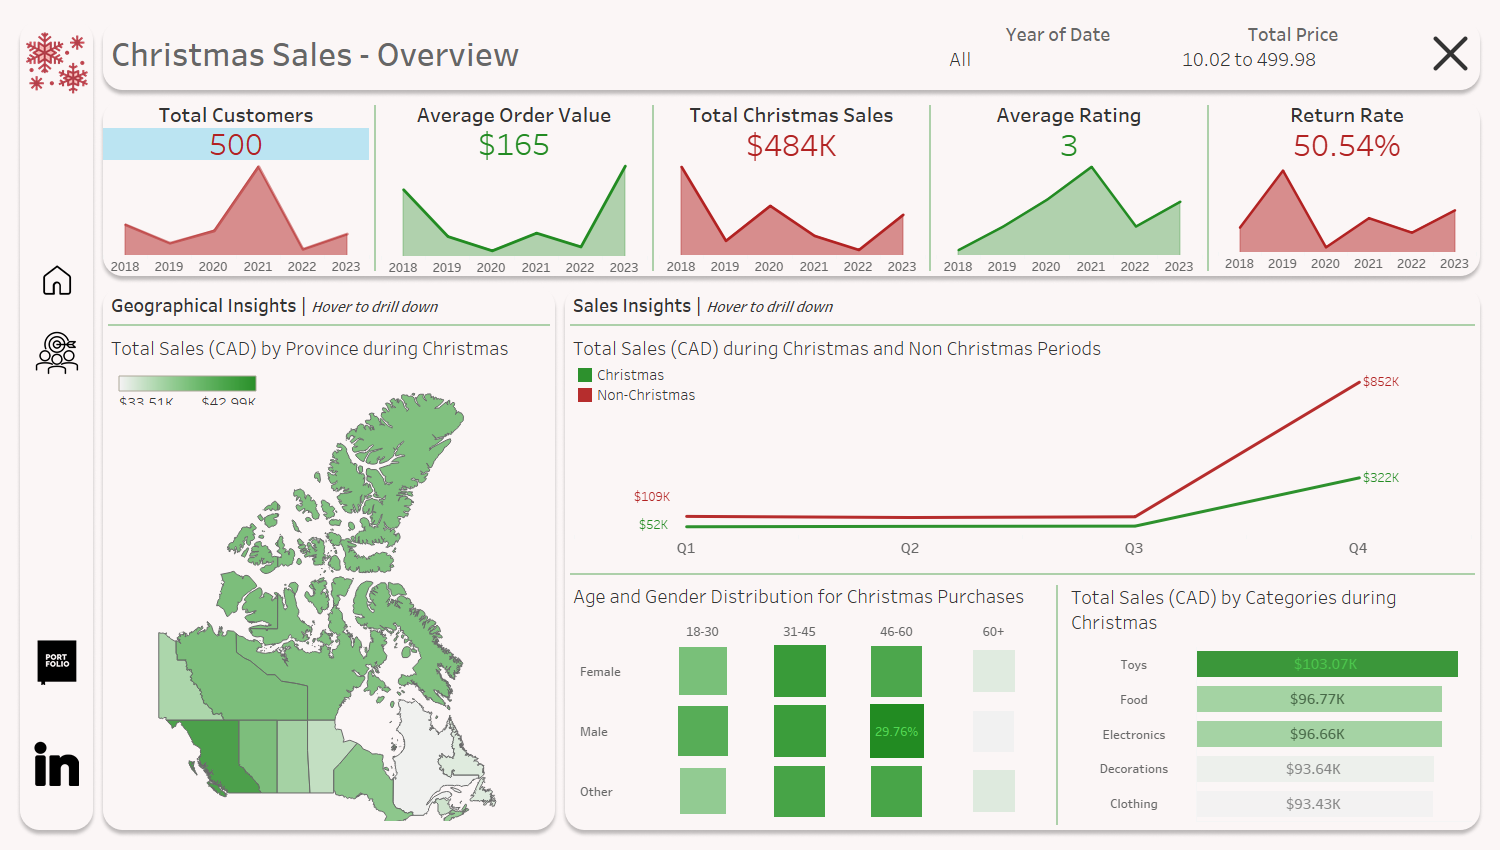

The page's visual inventory and layout, read from the dashboard file:
{"tool":"tableau","page":{"name":"Christmas Sales Overview","canvas":[1500,850],"ordinal":1},"visuals":[{"type":"image","param":"Image/Figma Layout.png","box":[0,0,1500,850]},{"type":"image","param":"Image/snowflake.png","box":[20,20,73,85]},{"type":"text","box":[103,20,839,70]},{"type":"filter","title":"Provinces with Highest Sales Volume during Christmas","param":"[federated.1prkwfw1cqiixn18lu98s0jrutzh].[yr:Date:ok]","box":[942,20,232,70]},{"type":"filter","title":"Provinces with Highest Sales Volume during Christmas","param":"[federated.1prkwfw1cqiixn18lu98s0jrutzh].[none:Total Price:qk]","box":[1174,20,238,70]},{"type":"blank","box":[1412,20,68,70]},{"type":"dashboard-object","box":[1425,22,51,64]},{"type":"text","box":[103,100,265.8,28]},{"type":"blank","box":[368.8,100,12,176]},{"type":"text","box":[380.8,100,265.8,28]},{"type":"blank","box":[646.6,100,12,176]},{"type":"text","box":[658.6,100,265.8,28]},{"type":"blank","box":[924.4,100,12,176]},{"type":"text","box":[936.4,100,265.8,28]},{"type":"blank","box":[1202.2,100,12,176]},{"type":"text","box":[1214.2,100,265.8,28]},{"type":"blank","box":[20,105,73,138]},{"type":"worksheet","title":"BAN Total Number of Customers","mark":"Text","box":[103,128,265.8,32]},{"type":"worksheet","title":"BAN Average Order Value (AOV) (2)","mark":"Text","box":[380.8,128,265.8,32]},{"type":"worksheet","title":"BAN Total Christmas Sales ","mark":"Text","box":[658.6,128,265.8,33]},{"type":"worksheet","title":"BAN Average Rating","mark":"Text","box":[936.4,128,265.8,33]},{"type":"worksheet","title":"BAN Return Rate","mark":"Text","box":[1214.2,128,265.8,33]},{"type":"worksheet","title":"Total Number of Customers","mark":"Area","rows":["Customer ID","Customer ID"],"cols":["Date"],"box":[103,160,265.8,116]},{"type":"worksheet","title":"Average Order Value (AOV)","mark":"Line","rows":["Calculation_2241948214590119941","Calculation_2241948214590119941"],"cols":["Date"],"box":[380.8,160,265.8,116]},{"type":"worksheet","title":"Total Christmas Sales ","mark":"Line","rows":["Total Price","Total Price"],"cols":["Date"],"box":[658.6,161,265.8,115]},{"type":"worksheet","title":"Average Rating","mark":"Area","rows":["Customer Satisfaction","Customer Satisfaction"],"cols":["Date"],"box":[936.4,161,265.8,115]},{"type":"worksheet","title":"Return Rate","mark":"Area","rows":["Calculation_1046523991688486935","Calculation_1046523991688486935"],"cols":["Date"],"box":[1214.2,161,265.8,115]},{"type":"dashboard-object","box":[20,243,73,73]},{"type":"text","box":[103,286,452,33]},{"type":"text","box":[565,286,915,33]},{"type":"dashboard-object","box":[20,316,73,73]},{"type":"blank","box":[103,319,452,12]},{"type":"blank","box":[565,319,915,12]},{"type":"text","box":[103,331,452,33]},{"type":"text","box":[565,331,915,33]},{"type":"worksheet","title":"Provinces with Highest Sales Volume during Christmas","mark":"Multipolygon","box":[103,364,452,466]},{"type":"worksheet","title":"Sales Comparision for Christmas and Non Christmas Periods","mark":"Line","rows":["Total Price"],"cols":["Date"],"box":[565,364,915,204]},{"type":"legend","title":"Sales Comparision for Christmas and Non Christmas Periods","param":"[federated.1prkwfw1cqiixn18lu98s0jrutzh].[none:Calculation_2241948214586474497:n","box":[575,365,163,46]},{"type":"legend","title":"Provinces with Highest Sales Volume during Christmas","param":"[federated.1prkwfw1cqiixn18lu98s0jrutzh].[sum:Total Price:qk]","box":[115,372,146,33]},{"type":"blank","box":[20,389,73,223]},{"type":"blank","box":[565,568,915,12]},{"type":"text","box":[565,580,486,32]},{"type":"blank","box":[1051,580,12,250]},{"type":"text","box":[1063,580,417,58]},{"type":"image","param":"Image/portfolio.png","box":[20,612,73,101]},{"type":"worksheet","title":"Age and Gender Distribution","mark":"Automatic","rows":["Gender"],"cols":["Calculation_2241948214457950208"],"box":[565,612,486,218]},{"type":"worksheet","title":"Product Category Distribution by Total Sales during Christmas Periods","mark":"Bar","rows":["Category"],"cols":["Total Price"],"box":[1063,638,417,192]},{"type":"image","param":"Image/linkedin.png","box":[20,713,73,102]}]}

Visuals, with their boxes in screenshot pixels (x1, y1, x2, y2), scaled from the page's 1500x850 canvas onto the 1500x850 screenshot:
image: [0, 0, 1499, 849]
image: [20, 20, 93, 105]
text: [103, 20, 942, 90]
"Provinces with Highest Sales Volume during Christmas" filter: [942, 20, 1174, 90]
"Provinces with Highest Sales Volume during Christmas" filter: [1174, 20, 1412, 90]
blank: [1412, 20, 1480, 90]
dashboard-object: [1425, 22, 1476, 86]
text: [103, 100, 369, 128]
blank: [369, 100, 381, 276]
text: [381, 100, 647, 128]
blank: [647, 100, 659, 276]
text: [659, 100, 924, 128]
blank: [924, 100, 936, 276]
text: [936, 100, 1202, 128]
blank: [1202, 100, 1214, 276]
text: [1214, 100, 1480, 128]
blank: [20, 105, 93, 243]
"BAN Total Number of Customers" worksheet (Text marks): [103, 128, 369, 160]
"BAN Average Order Value (AOV) (2)" worksheet (Text marks): [381, 128, 647, 160]
"BAN Total Christmas Sales " worksheet (Text marks): [659, 128, 924, 161]
"BAN Average Rating" worksheet (Text marks): [936, 128, 1202, 161]
"BAN Return Rate" worksheet (Text marks): [1214, 128, 1480, 161]
"Total Number of Customers" worksheet (Area marks): [103, 160, 369, 276]
"Average Order Value (AOV)" worksheet (Line marks): [381, 160, 647, 276]
"Total Christmas Sales " worksheet (Line marks): [659, 161, 924, 276]
"Average Rating" worksheet (Area marks): [936, 161, 1202, 276]
"Return Rate" worksheet (Area marks): [1214, 161, 1480, 276]
dashboard-object: [20, 243, 93, 316]
text: [103, 286, 555, 319]
text: [565, 286, 1480, 319]
dashboard-object: [20, 316, 93, 389]
blank: [103, 319, 555, 331]
blank: [565, 319, 1480, 331]
text: [103, 331, 555, 364]
text: [565, 331, 1480, 364]
"Provinces with Highest Sales Volume during Christmas" worksheet (Multipolygon marks): [103, 364, 555, 830]
"Sales Comparision for Christmas and Non Christmas Periods" worksheet (Line marks): [565, 364, 1480, 568]
"Sales Comparision for Christmas and Non Christmas Periods" legend: [575, 365, 738, 411]
"Provinces with Highest Sales Volume during Christmas" legend: [115, 372, 261, 405]
blank: [20, 389, 93, 612]
blank: [565, 568, 1480, 580]
text: [565, 580, 1051, 612]
blank: [1051, 580, 1063, 830]
text: [1063, 580, 1480, 638]
image: [20, 612, 93, 713]
"Age and Gender Distribution" worksheet: [565, 612, 1051, 830]
"Product Category Distribution by Total Sales during Christmas Periods" worksheet (Bar marks): [1063, 638, 1480, 830]
image: [20, 713, 93, 815]
